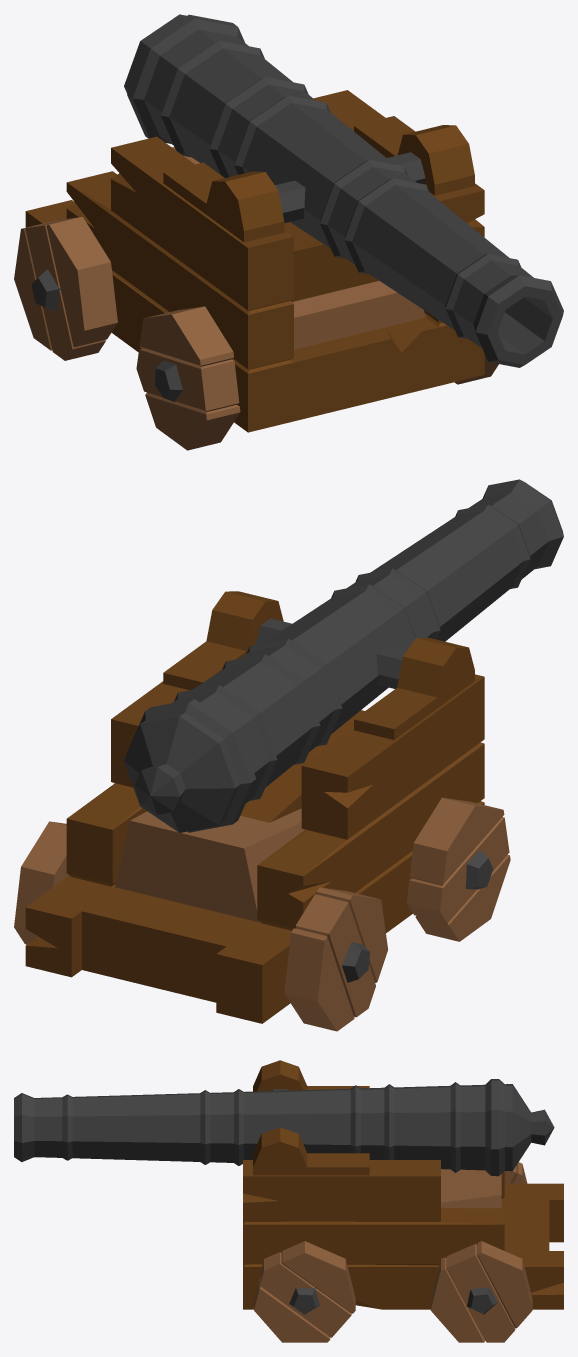
Rendered from Cannon.fbx.
The picture shows the model from 3 angles, top to bottom: view 1: azimuth 30°, elevation 25°; view 2: azimuth 150°, elevation 25°; view 3: azimuth 270°, elevation 25°; orthographic projection. The views are drawn at different scales.
Parts seen in each view (by area): view 1: Cannon; view 2: Cannon; view 3: Cannon.
Boxes of the visible parts, x1,y1,x2,y2 form: Cannon: (14, 14, 563, 450); Cannon: (14, 479, 563, 1031); Cannon: (14, 1060, 563, 1342).
Size of the model in its own units: 101 by 86.56 by 207.
